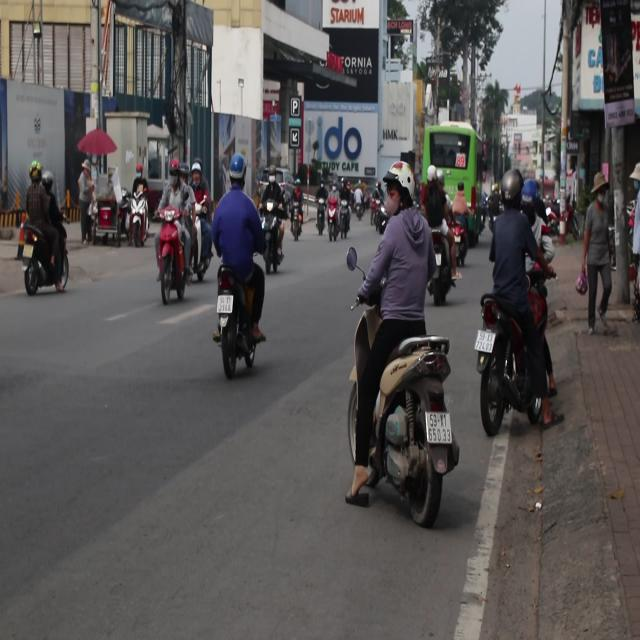bus: (424, 122, 482, 213)
car: (257, 156, 296, 208)
motorbike: (324, 283, 450, 504), (468, 280, 570, 445), (212, 250, 266, 380), (23, 221, 67, 304), (158, 206, 188, 313), (182, 197, 207, 295), (428, 230, 457, 307), (254, 206, 286, 268), (127, 187, 153, 240), (323, 190, 338, 252), (312, 192, 330, 230), (339, 189, 354, 233), (373, 198, 380, 233)
